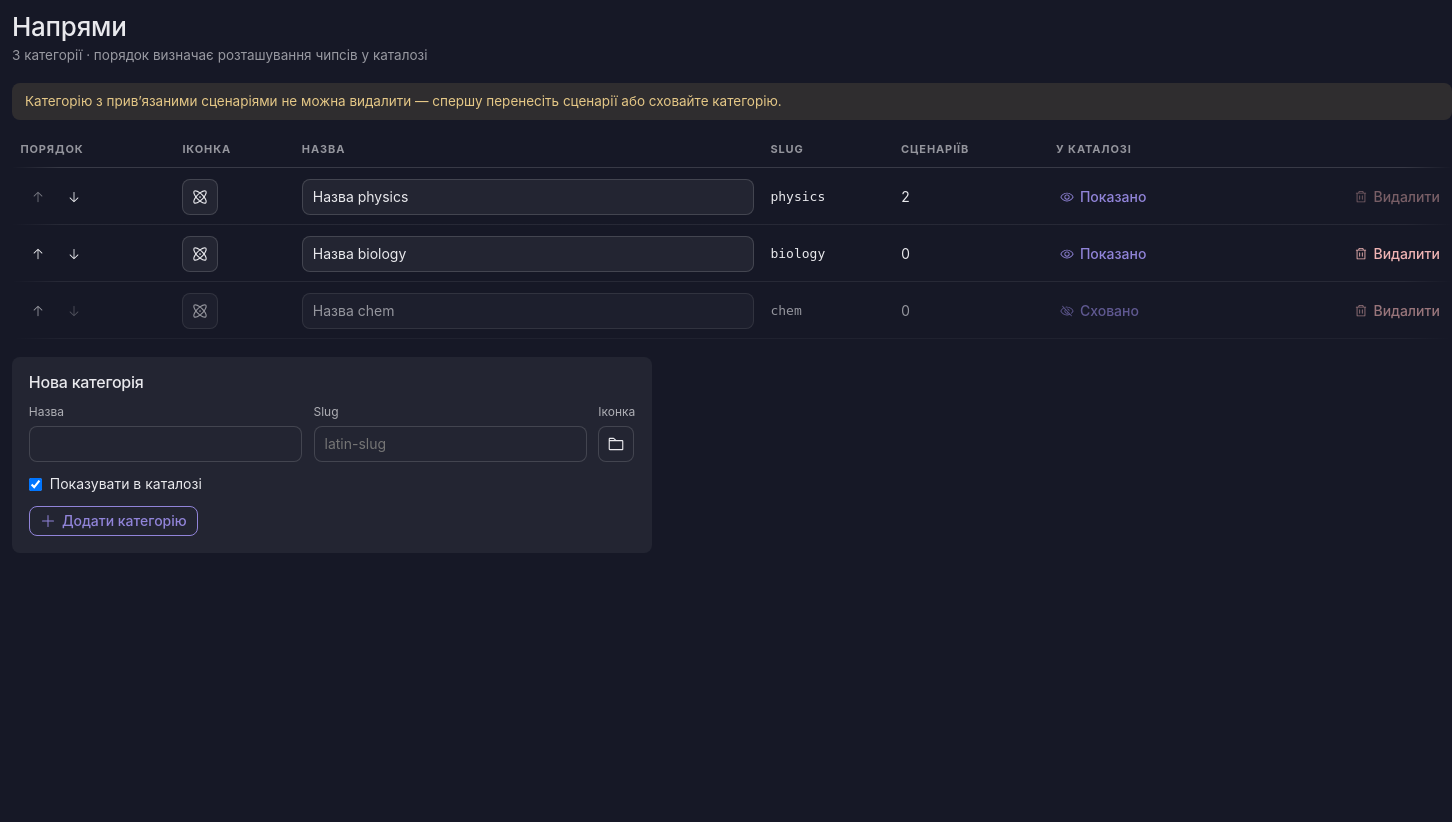
Test: CategoriesComponent › add (DW-7.3) › DW-7.3 posts slug, label, icon and visibility, then re-reads the list and clears the form
The image size is (1452, 822).
In the field with id "cat-label": [166, 444] box [29,426,302,462], type "  Математика "
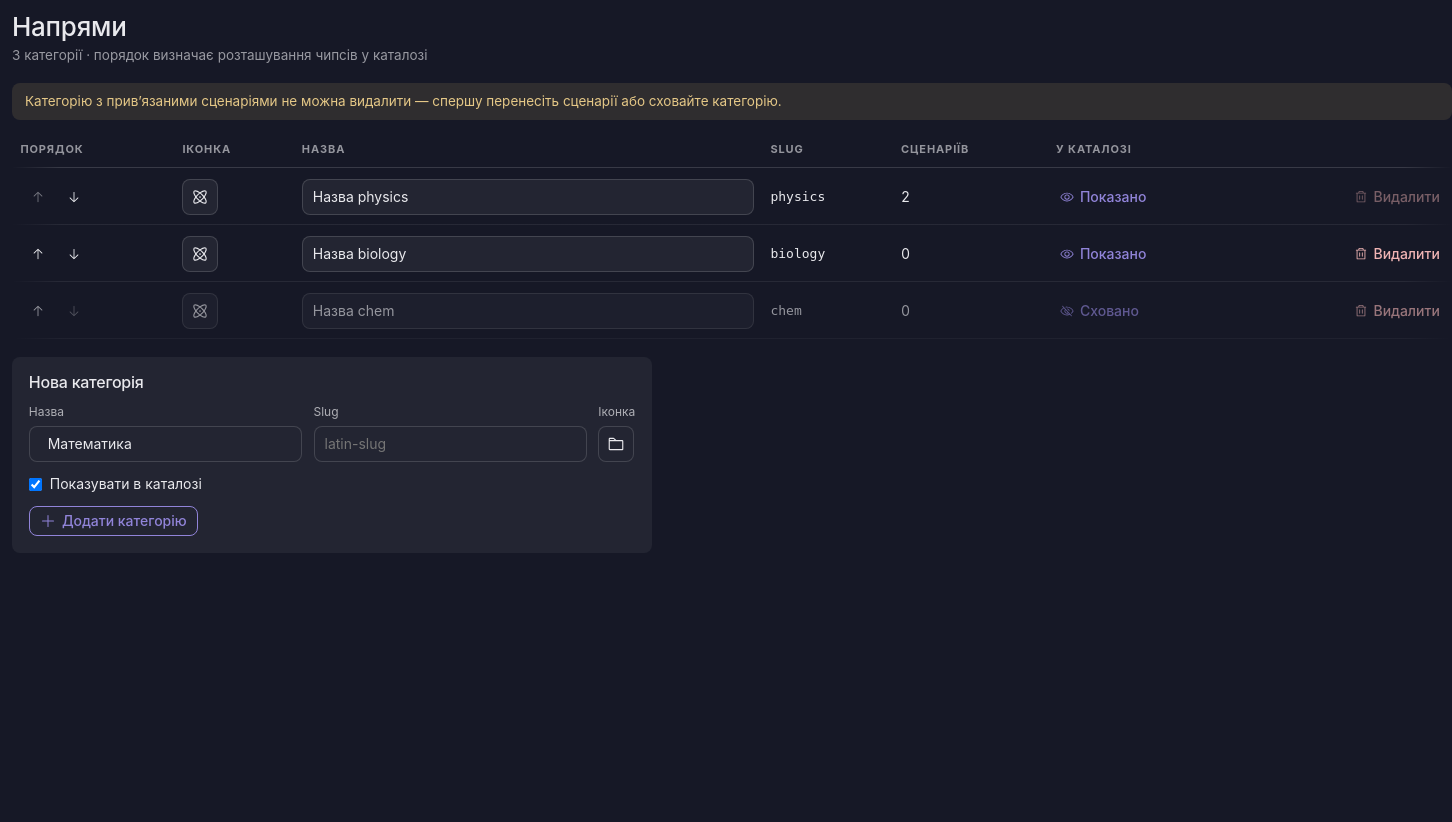
In the field with id "cat-slug": [450, 444] box [314,426,587,462], type "math"
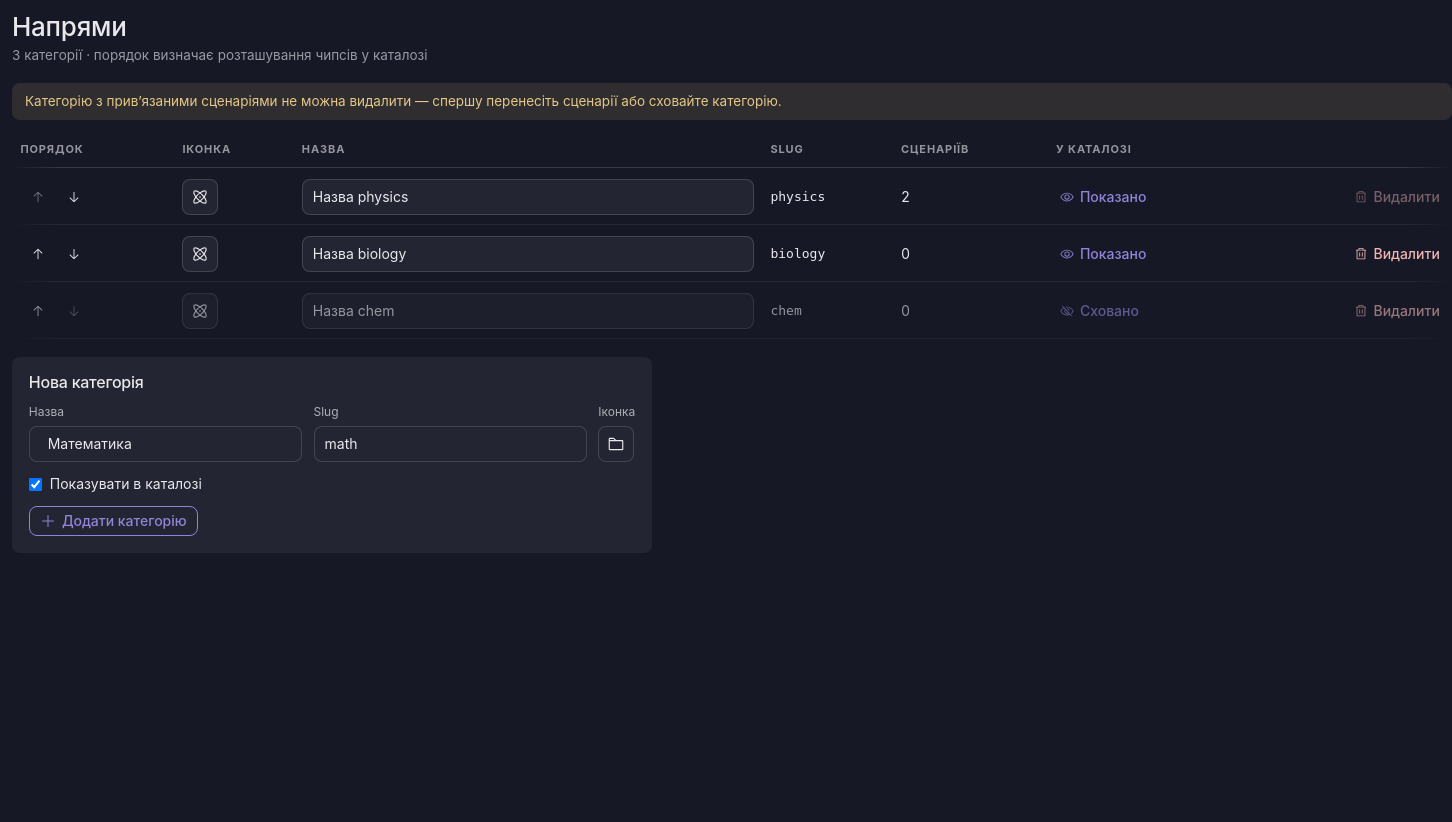
Submit the form, box [29,403,635,536]
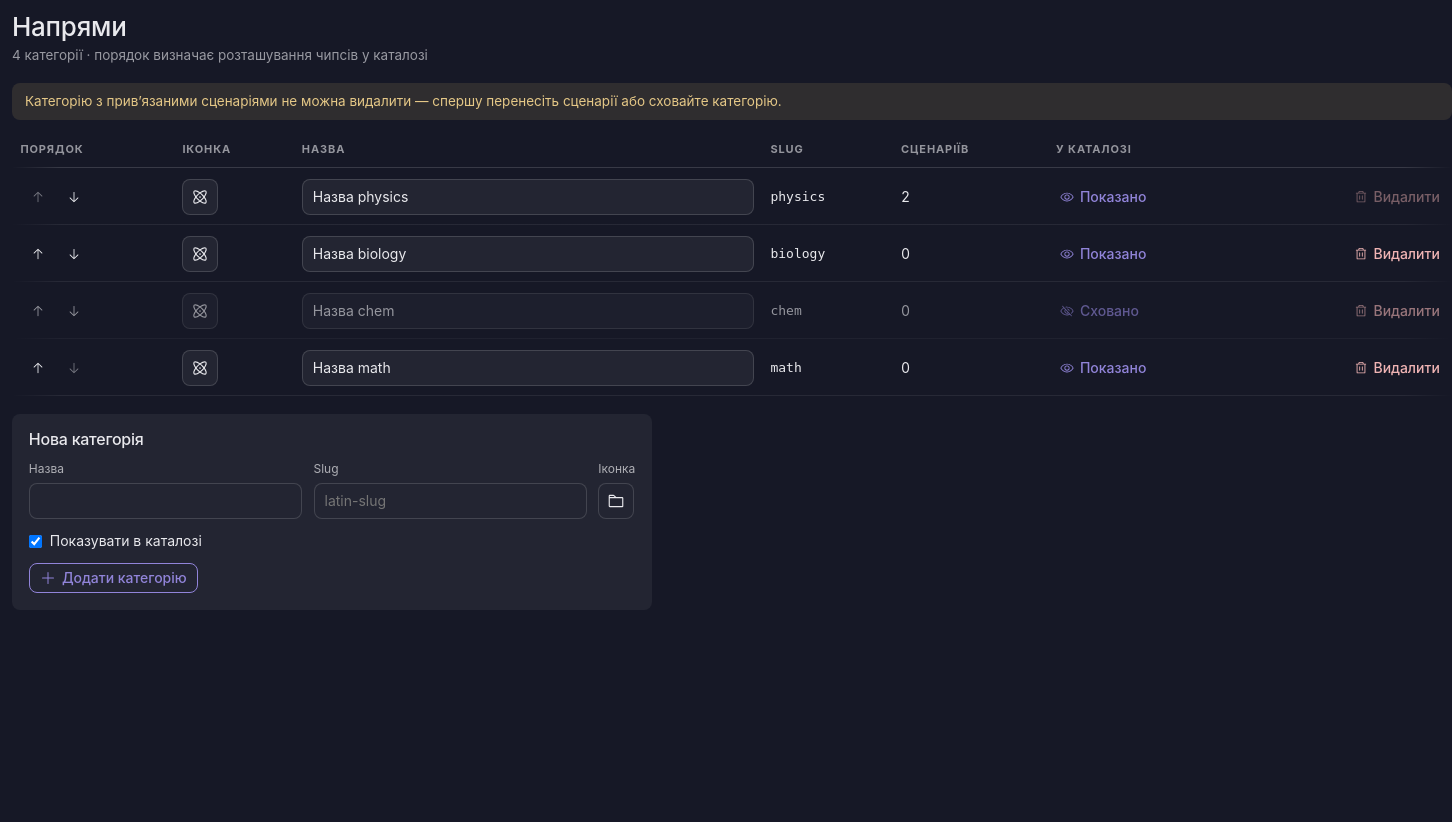
Expected: the cell "math" is shown, [762,340,893,396]
Expected: the field with id "cat-slug" is empty, [314,483,587,519]
